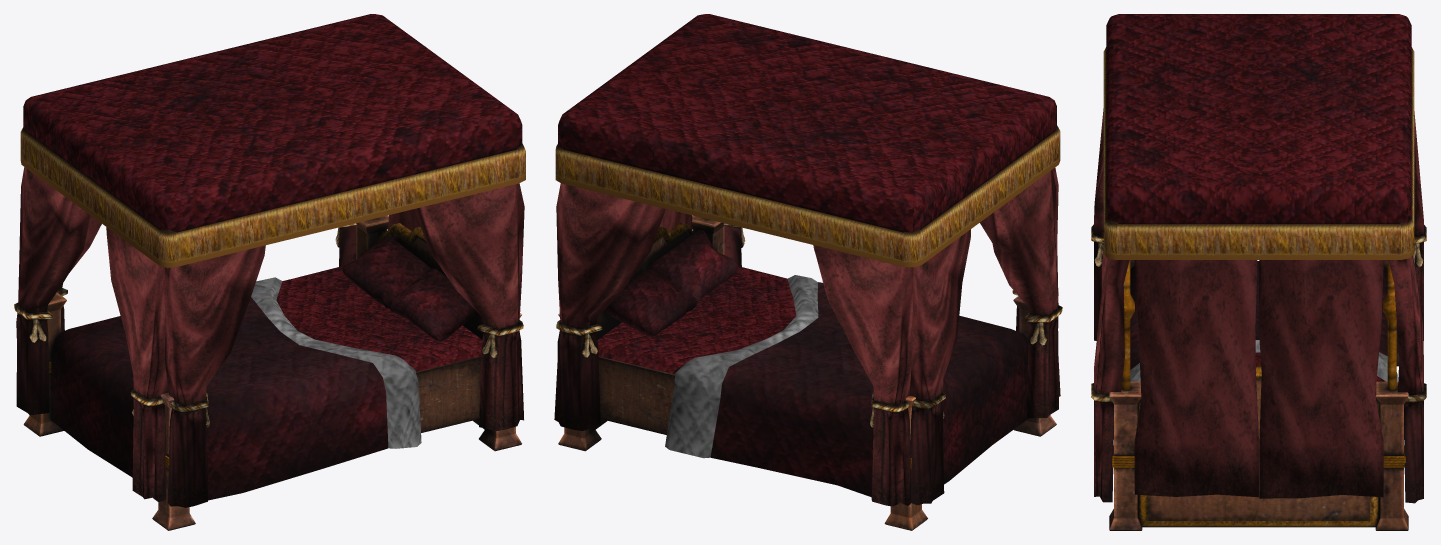
The model's file is bed_nice_red.DAE.
The picture shows the model from 3 angles, left to right: view 1: azimuth 30°, elevation 25°; view 2: azimuth 150°, elevation 25°; view 3: azimuth 270°, elevation 25°; orthographic projection. The views are drawn at different scales.
Visible parts, largest first — view 1: Box010, Object002, Box008, Box012, Object003, Box011; view 2: Box010, Object002, Box011, Box012, Object003, Box008; view 3: Box010, Box006, Object003, Box008, Box011, Object002.
Boxes of the visible parts, box(x1,y1,x2,y2) form: Box010: box(23, 14, 522, 530); Object002: box(51, 265, 482, 500); Box008: box(164, 183, 524, 507); Box012: box(14, 167, 168, 501); Object003: box(20, 127, 525, 267); Box011: box(57, 215, 356, 331); Box010: box(558, 14, 1056, 530); Object002: box(597, 266, 1028, 497); Box011: box(554, 183, 913, 506); Box012: box(909, 169, 1062, 505); Object003: box(555, 125, 1060, 267); Box008: box(723, 168, 1060, 396); Box010: box(1106, 14, 1411, 530); Box006: box(1134, 260, 1383, 498); Object003: box(1103, 47, 1414, 259); Box008: box(1091, 108, 1129, 502); Box011: box(1388, 111, 1426, 503); Object002: box(1130, 261, 1397, 394).
Size of the model in its own units: 3.51 by 2.95 by 2.63.
